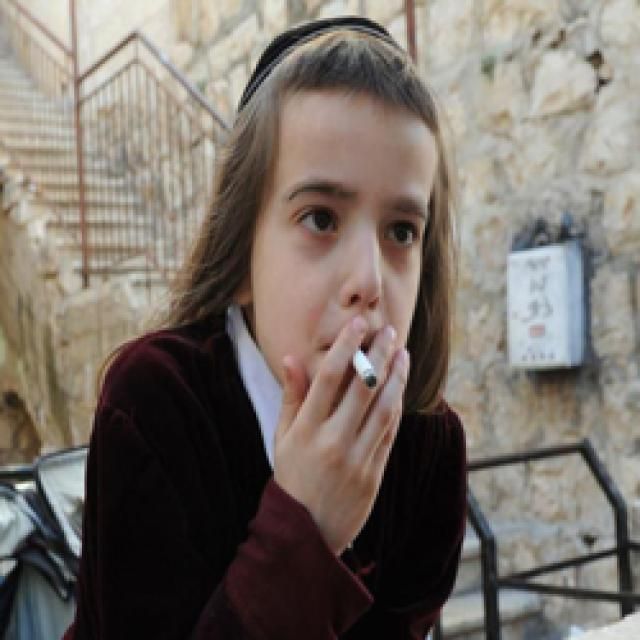Smooking: (340, 342, 391, 396)
